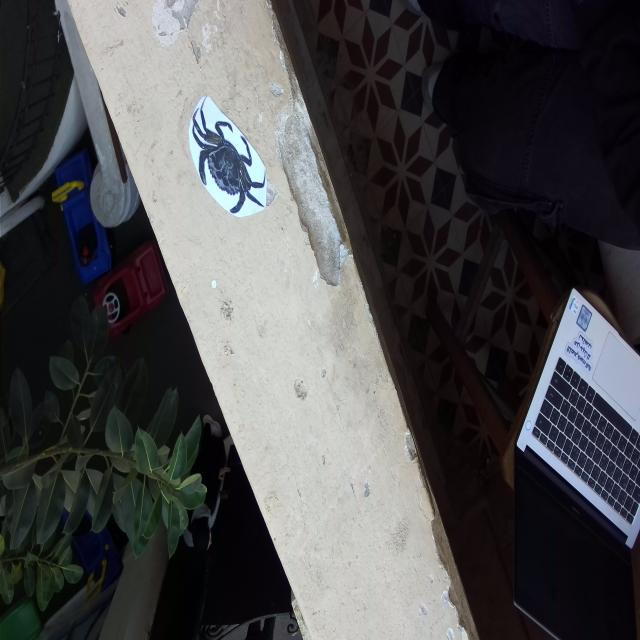European_Green_Crab: (179, 90, 276, 240)
